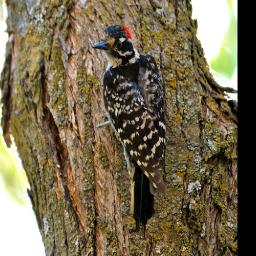Woodpecker: (93, 21, 161, 236)
